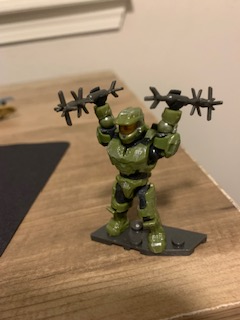chief: (89, 83, 183, 254)
spartan: (87, 81, 181, 252)
up: (86, 82, 183, 179)
